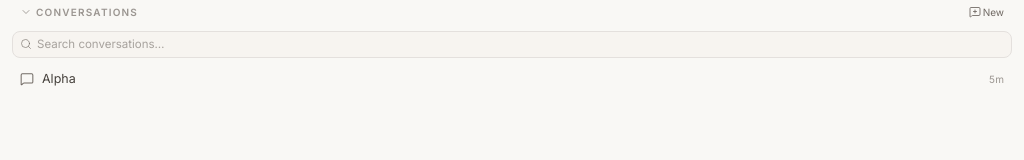
Test: ConversationsList (production sidebar component) › collapses the section when the header is clicked
The image size is (1024, 160).
Expected: the element with test id "nav-conversation-c1" is shown, [20,71,1004,86]
Click the button with test id "button-toggle-conversations" at (79, 12), box [20,4,138,20]
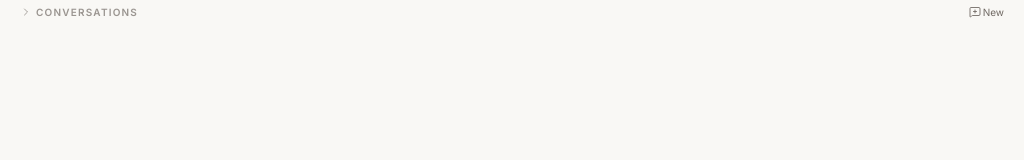
Expected: the button with test id "button-toggle-conversations" is collapsed, [20,4,138,20]
Expected: the field with test id "input-conversation-search" is gone
Expected: the element with test id "nav-conversation-c1" is gone
